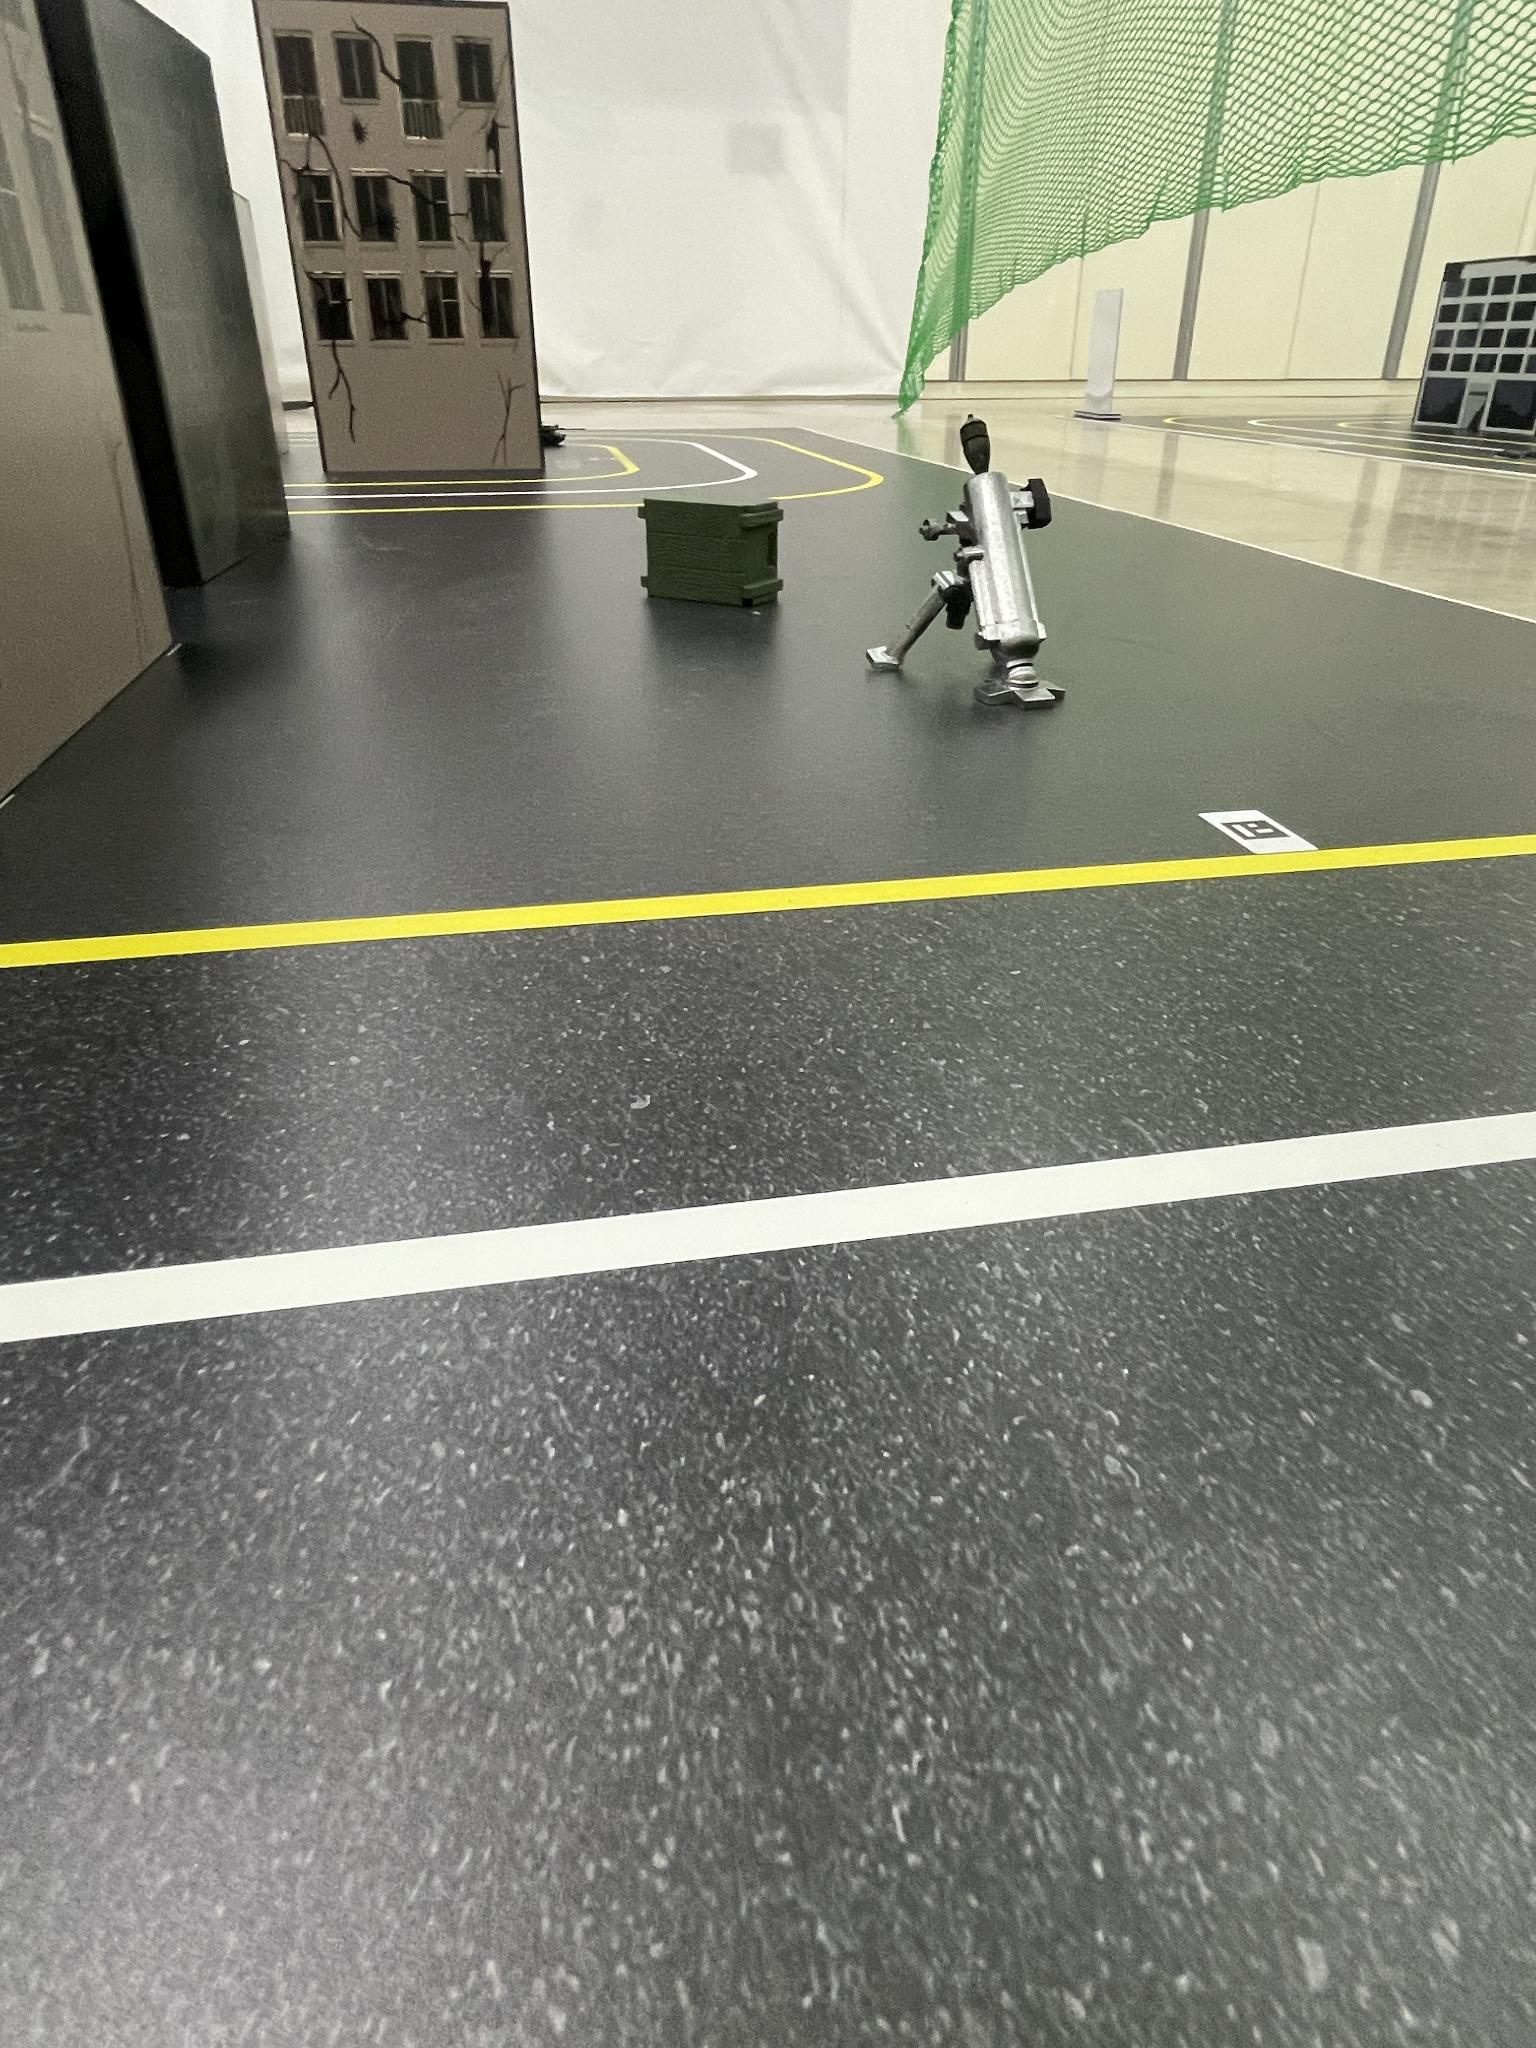Box: (643, 485, 785, 615)
Mortar: (871, 414, 1064, 706)
